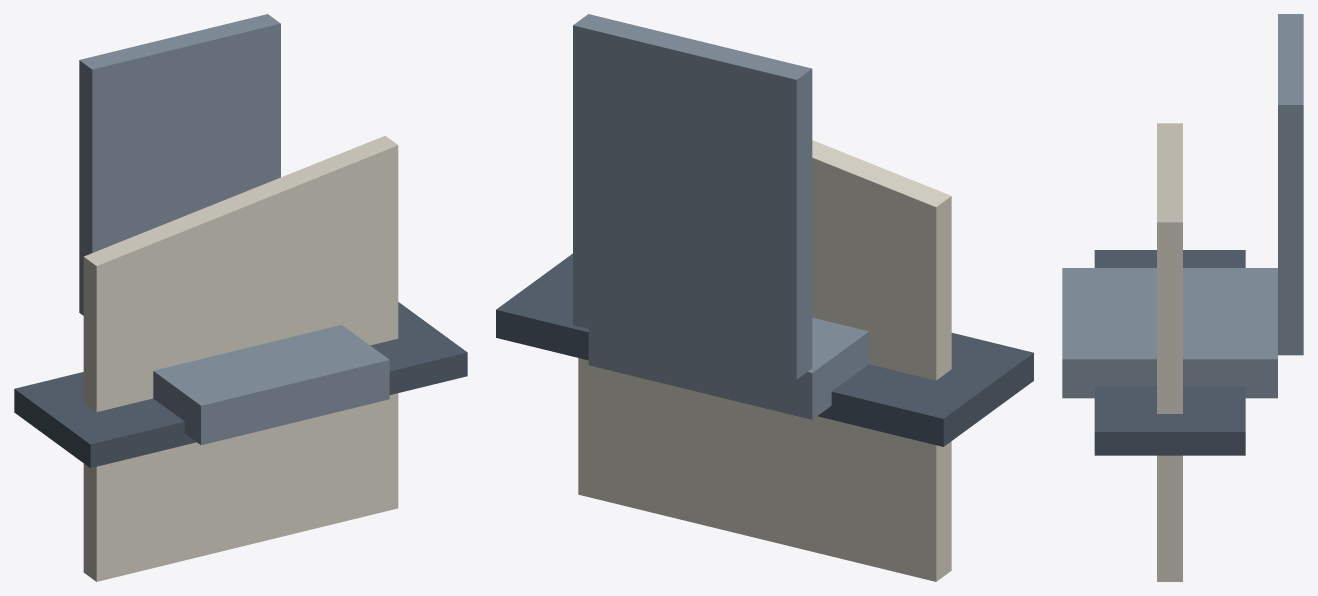
The picture shows the model from 3 angles, left to right: view 1: azimuth 30°, elevation 25°; view 2: azimuth 150°, elevation 25°; view 3: azimuth 270°, elevation 25°; orthographic projection. The views are drawn at different scales.
Parts seen in each view (by area): view 1: Panel, PanelDamaged, Seat, Shelf; view 2: Seat, Panel, Shelf, PanelDamaged; view 3: Seat, Shelf, Panel, PanelDamaged.
Part boxes in pixels (bbox=[...]): Panel: bbox=[83, 192, 398, 581]; PanelDamaged: bbox=[84, 135, 398, 580]; Seat: bbox=[79, 14, 389, 445]; Shelf: bbox=[14, 302, 467, 468]; Seat: bbox=[573, 14, 868, 419]; Panel: bbox=[578, 177, 951, 581]; Shelf: bbox=[496, 253, 1033, 446]; PanelDamaged: bbox=[578, 140, 950, 492]; Seat: bbox=[1062, 14, 1303, 398]; Shelf: bbox=[1094, 250, 1245, 455]; Panel: bbox=[1157, 269, 1182, 581]; PanelDamaged: bbox=[1157, 123, 1182, 581].
Size of the model in its own units: 1 by 1.15 by 0.56.
